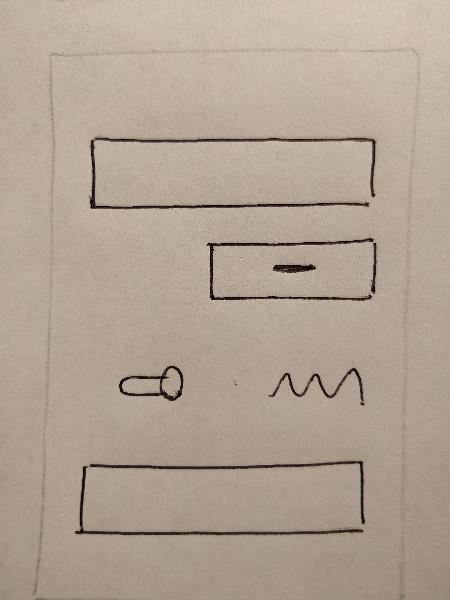button: (200, 232, 385, 315)
switch: (112, 357, 192, 411)
text: (252, 355, 373, 413)
text_input: (65, 455, 372, 550), (83, 130, 386, 221)
